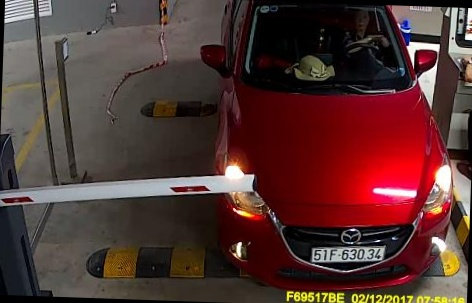plate: (309, 242, 389, 268)
